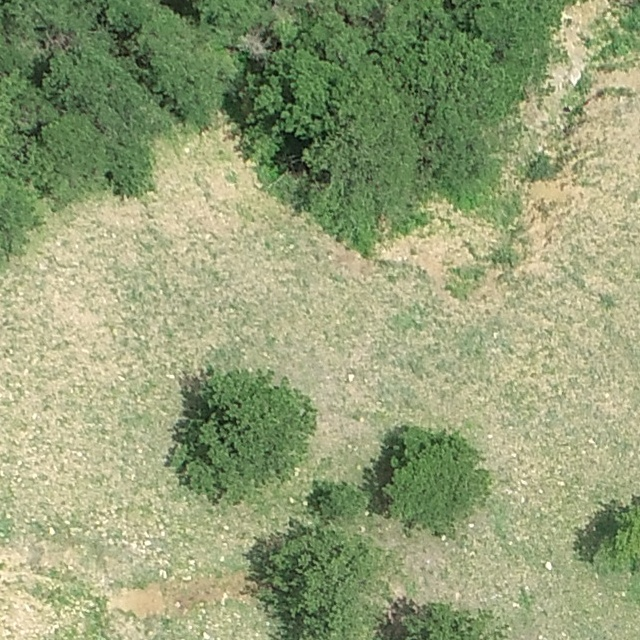unhealthy: (238, 29, 270, 61)
